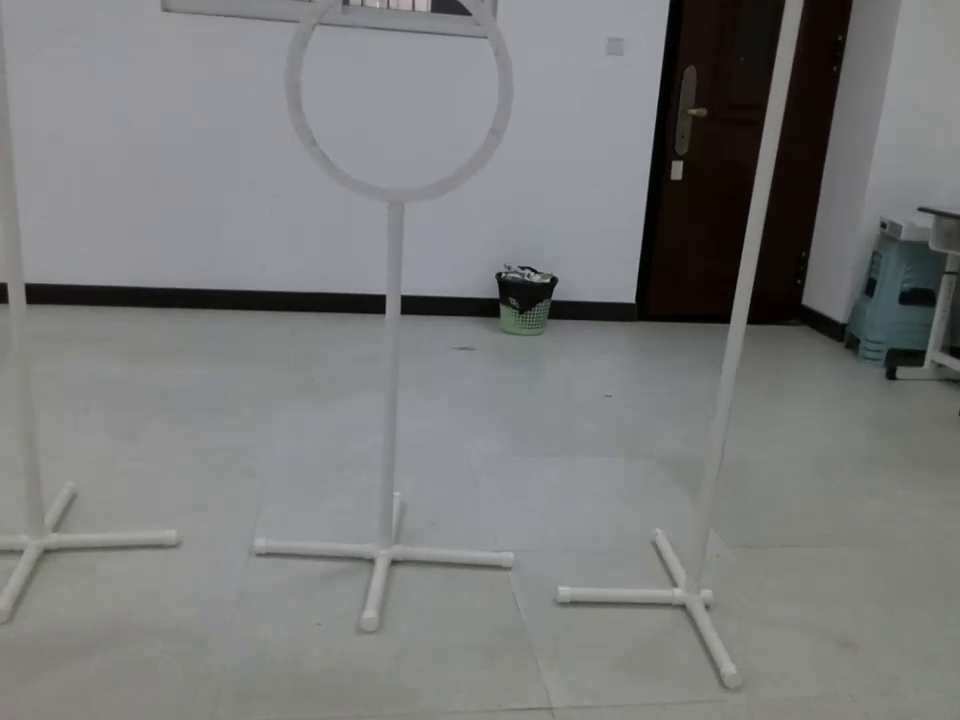gan: (682, 3, 808, 563)
quan: (285, 5, 515, 247)
